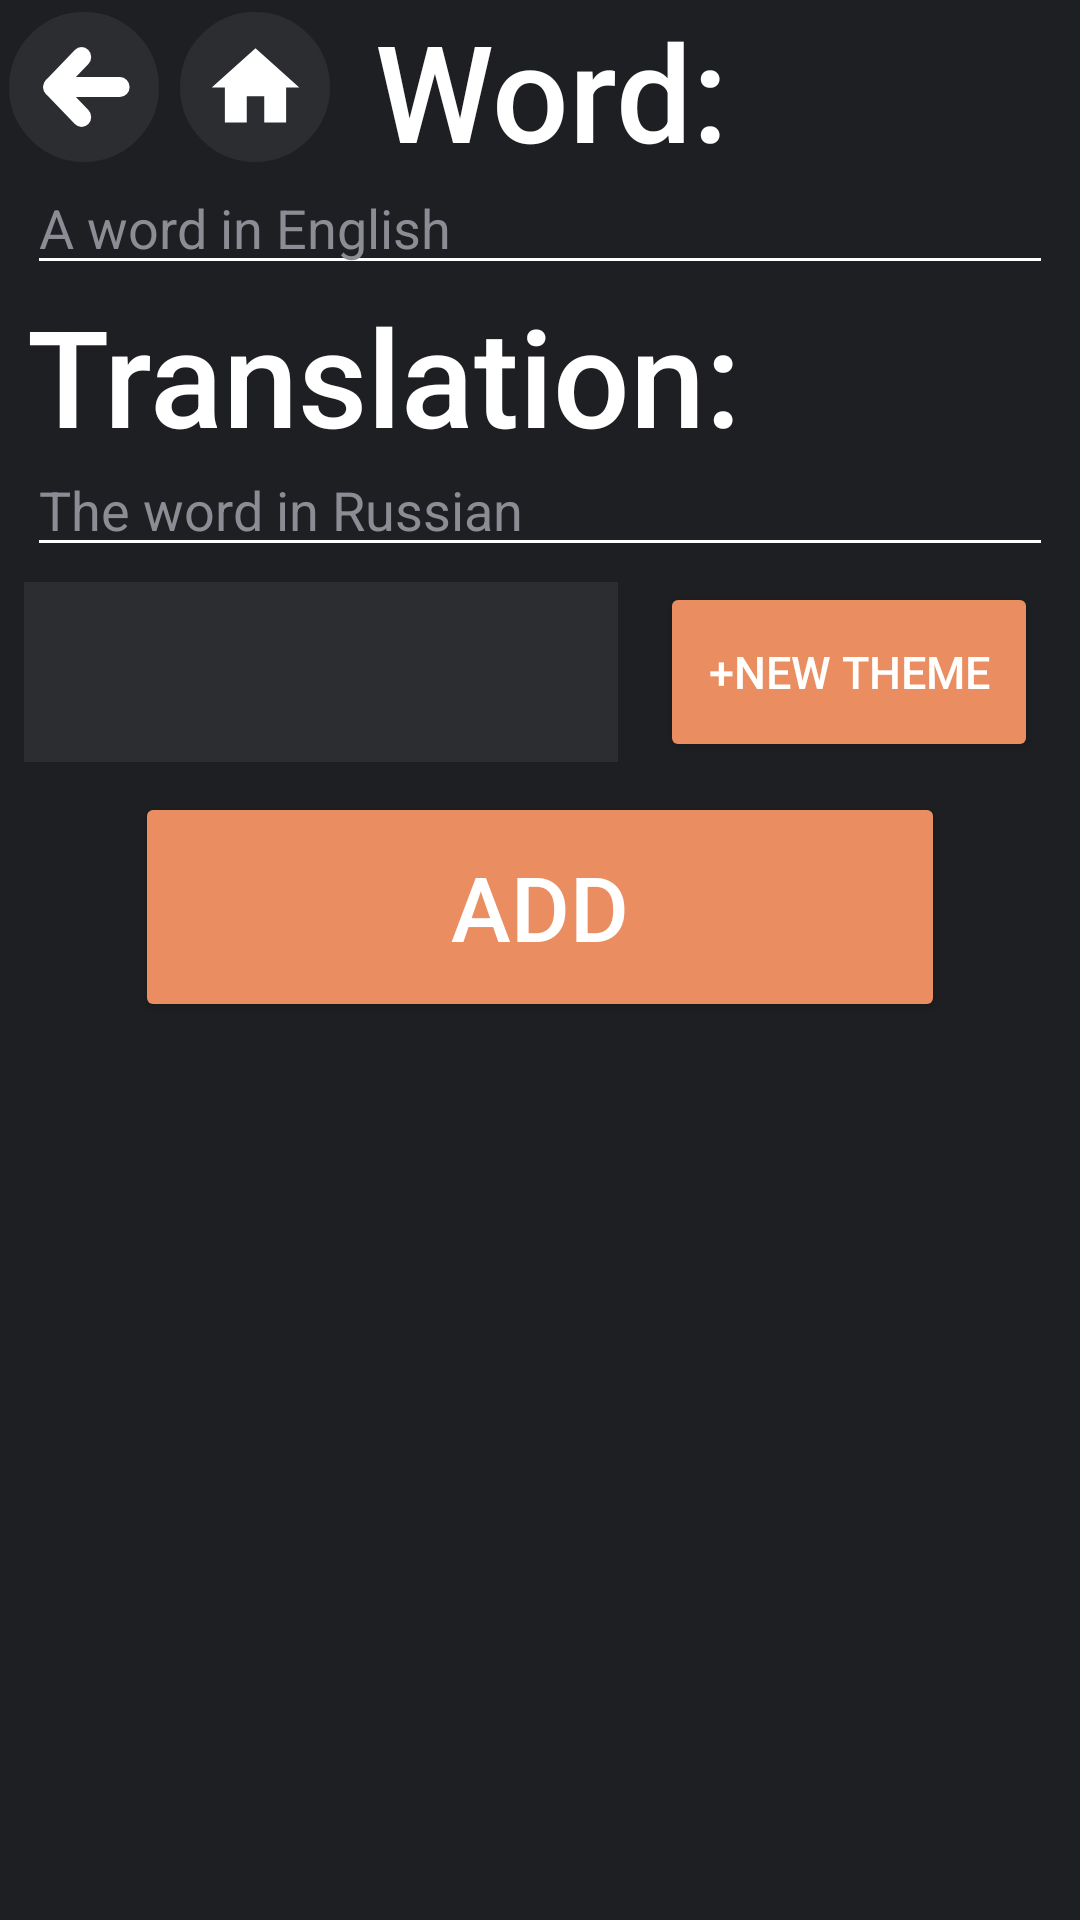

Icon bounding boxes for this 1080 x 1920 phone screenshot, format [x1, y1, x2, y2]:
back: [9, 12, 159, 162]
home: [212, 48, 299, 123]
